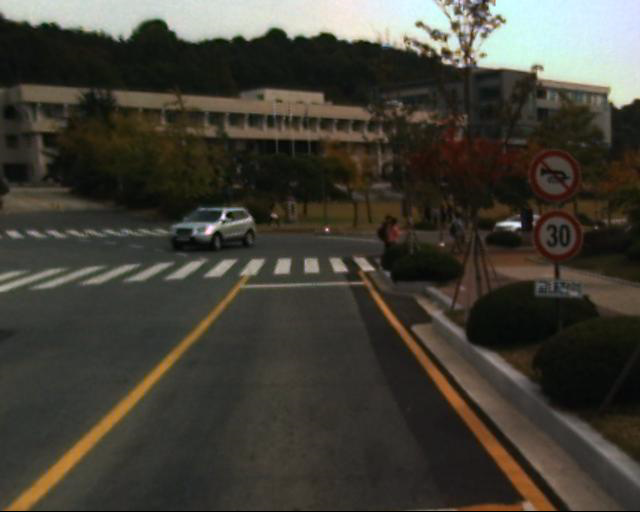person: (378, 209, 408, 272), (443, 210, 466, 256)
